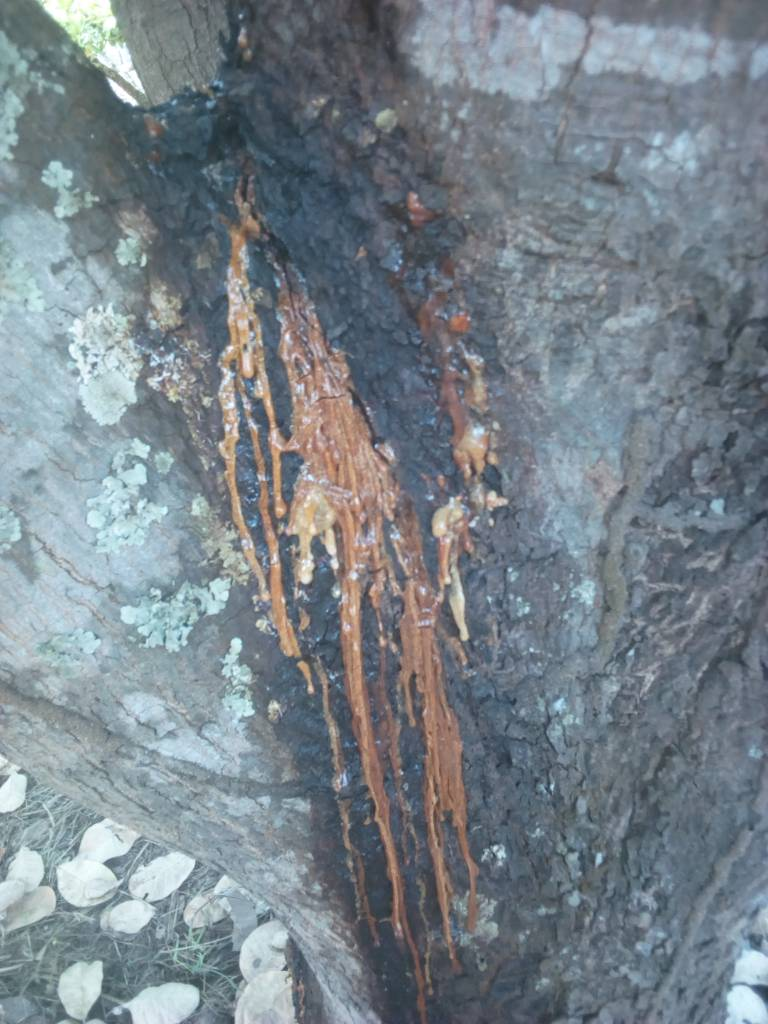Gommose: (166, 85, 511, 982)
